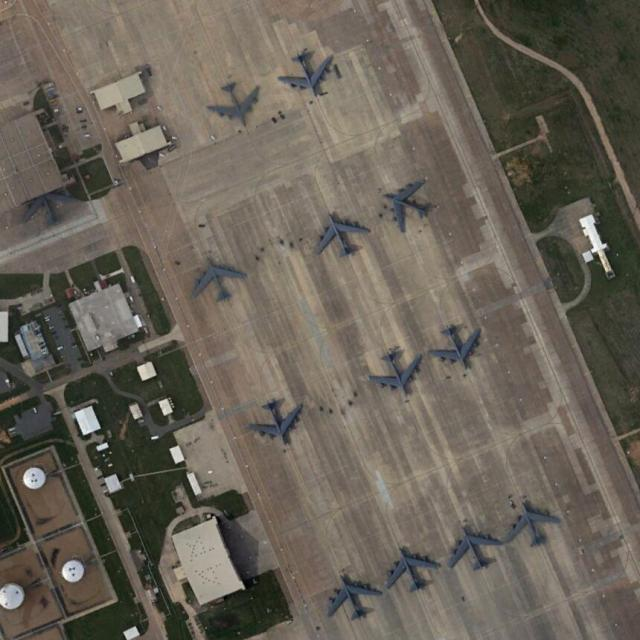fighter jet: (279, 44, 342, 101), (324, 568, 381, 623), (373, 345, 428, 396), (194, 256, 246, 309), (317, 206, 370, 258), (212, 79, 264, 130), (250, 396, 302, 447), (452, 518, 501, 572), (388, 548, 442, 595), (386, 177, 432, 228), (438, 320, 486, 368), (512, 504, 561, 549)
